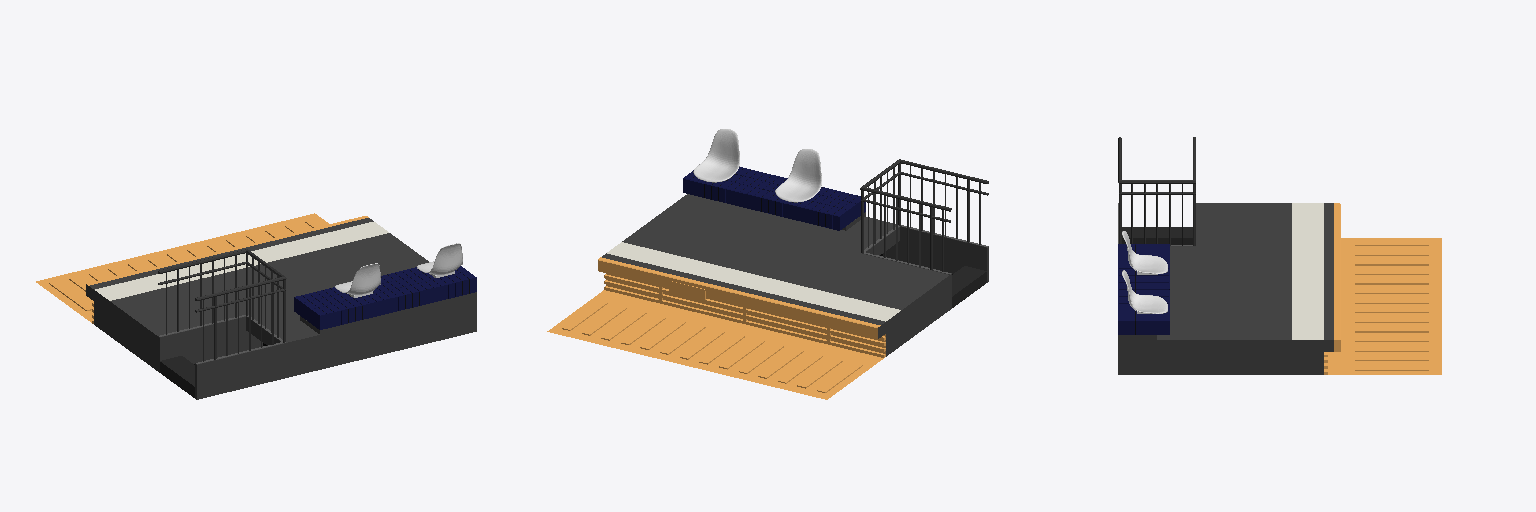
The model's file is orelsan_base-scene.obj.
3 renders of one model, left to right at view 1: azimuth 30°, elevation 25°; view 2: azimuth 150°, elevation 25°; view 3: azimuth 270°, elevation 25°, orthographic.
Visible parts, largest first — view 1: orelsan; view 2: orelsan; view 3: orelsan.
Part boxes in pixels (left/top/right/bottom): orelsan: left=36, top=213, right=476, bottom=399; orelsan: left=547, top=129, right=988, bottom=399; orelsan: left=1118, top=137, right=1441, bottom=374.
Bounding box in the file's own units: 500 × 173 × 500.